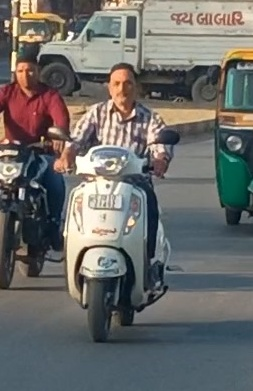BikeWithRider: (47, 58, 187, 346), (0, 48, 78, 294)
NoHelmet: (100, 59, 143, 108), (6, 52, 46, 93)
